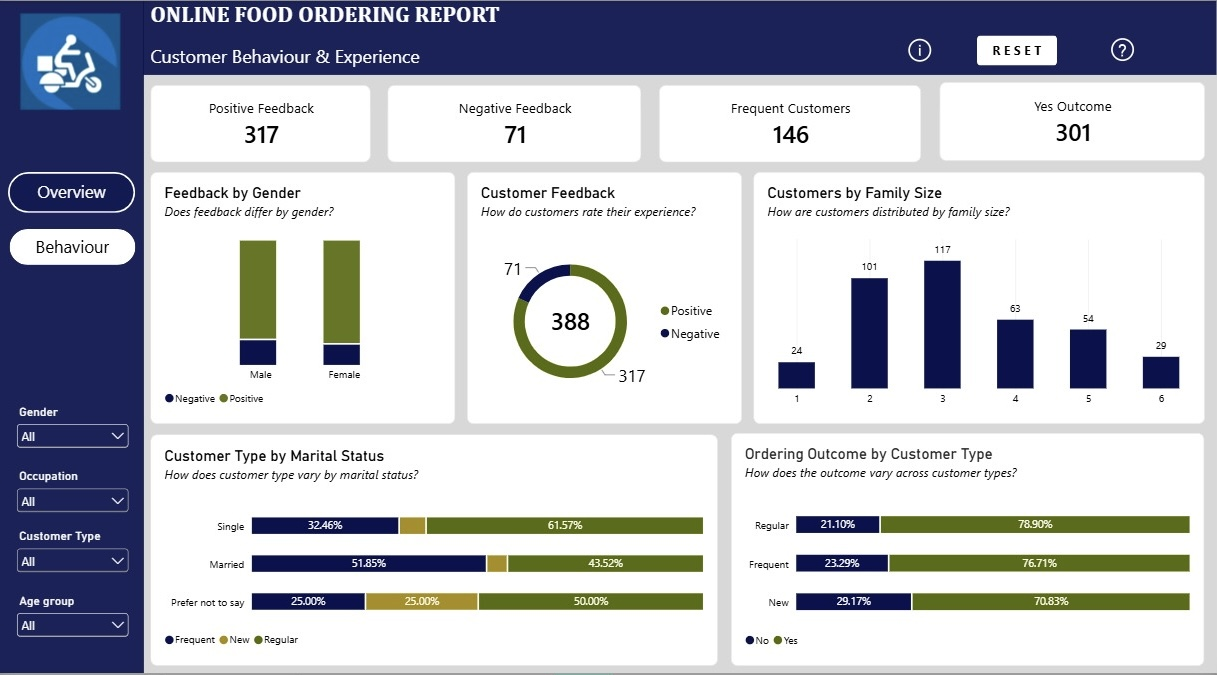

This screenshot's page, from the dashboard's own definition file:
{"tool":"powerbi","page":{"name":"Behaviour & Experience","canvas":[1450,800],"ordinal":1},"visuals":[{"type":"cardVisual","fields":{"Data":["Table1.Positive Feedback"]},"box":[180,100,262,92],"z":0},{"type":"cardVisual","fields":{"Data":["Table1.Negative Feedback"]},"box":[462.7,100,302,92],"z":1000},{"type":"cardVisual","fields":{"Data":["Table1.Frequent Customers"]},"box":[785.3,100,312,92],"z":2000},{"type":"shape","box":[0,0,172.5,800],"z":3000},{"type":"shape","box":[172,0,1278,88],"z":4000},{"type":"clusteredColumnChart","title":"Customers by Family Size","fields":{"Category":["Table1.Family size"],"Y":["Table1.Total Customers"]},"box":[898,203.9,537.3,300],"z":5000},{"type":"textbox","box":[180,0,430,87.5],"z":6000},{"type":"actionButton","box":[21.6,5.4,127,124.3],"z":7000},{"type":"actionButton","box":[10.8,202.7,151.4,48.6],"z":8000},{"type":"cardVisual","fields":{"Data":["Table1.Yes Outcome"]},"box":[1118.9,97.3,316.2,94.6],"z":9000},{"type":"actionButton","box":[11.9,271.4,150,42.9],"z":10000},{"type":"actionButton","box":[1011.9,14.3,166.7,88.1],"z":12000},{"type":"actionButton","box":[1164.3,40.5,95.2,35.7],"z":13000},{"type":"actionButton","box":[1283.3,38.1,107.1,40.5],"z":14000},{"type":"slicer","fields":{"Values":["Table1.Gender"]},"box":[16.7,481,142.9,69],"z":15000},{"type":"slicer","fields":{"Values":["Table1.Occupation"]},"box":[16.7,557.1,142.9,54.8],"z":16000},{"type":"slicer","fields":{"Values":["Table1.Customer Type"]},"box":[16.7,628.6,142.9,54.8],"z":17000},{"type":"slicer","fields":{"Values":["Table1.Age group"]},"box":[16.9,704.6,143.1,56.9],"z":18000},{"type":"donutChart","title":"Customer Feedback ","fields":{"Category":["Table1.Feedback"],"Y":["CountNonNull(Table1.Customer Type)"]},"box":[556.9,203.9,327.5,300],"z":19000},{"type":"hundredPercentStackedColumnChart","title":"Feedback by Gender","fields":{"Category":["Table1.Gender"],"Series":["Table1.Feedback"],"Y":["CountNonNull(Table1.Customer Type)"]},"box":[180.4,203.9,362.7,300],"z":20000},{"type":"hundredPercentStackedBarChart","title":"Ordering Outcome by Customer Type","fields":{"Category":["Table1.Customer Type"],"Series":["Table1.Output"],"Y":["Table1.Total Customers"]},"box":[871.4,514.3,563.3,277.6],"z":21000},{"type":"hundredPercentStackedBarChart","title":"Customer Type by Marital Status","fields":{"Category":["Table1.Marital Status"],"Series":["Table1.Customer Type"],"Y":["CountNonNull(Table1.Marital Status)"]},"box":[179.5,515.9,675,275],"z":21001}]}

Visuals, with their boxes in screenshot pixels (x1, y1, x2, y2), scaled from the page's 1450x800 canvas onto the 1217x675 screenshot:
cardVisual - Table1.Positive Feedback: <box>151,84,371,162</box>
cardVisual - Table1.Negative Feedback: <box>388,84,642,162</box>
cardVisual - Table1.Frequent Customers: <box>659,84,921,162</box>
shape: <box>0,0,145,674</box>
shape: <box>144,0,1216,74</box>
"Customers by Family Size" clusteredColumnChart: <box>754,172,1205,425</box>
textbox: <box>151,0,512,74</box>
actionButton: <box>18,5,125,109</box>
actionButton: <box>9,171,136,212</box>
cardVisual - Table1.Yes Outcome: <box>939,82,1204,162</box>
actionButton: <box>10,229,136,265</box>
actionButton: <box>849,12,989,86</box>
actionButton: <box>977,34,1057,64</box>
actionButton: <box>1077,32,1167,66</box>
slicer - Table1.Gender: <box>14,406,134,464</box>
slicer - Table1.Occupation: <box>14,470,134,516</box>
slicer - Table1.Customer Type: <box>14,530,134,577</box>
slicer - Table1.Age group: <box>14,595,134,643</box>
"Customer Feedback " donutChart: <box>467,172,742,425</box>
"Feedback by Gender" hundredPercentStackedColumnChart: <box>151,172,456,425</box>
"Ordering Outcome by Customer Type" hundredPercentStackedBarChart: <box>731,434,1204,668</box>
"Customer Type by Marital Status" hundredPercentStackedBarChart: <box>151,435,717,667</box>
